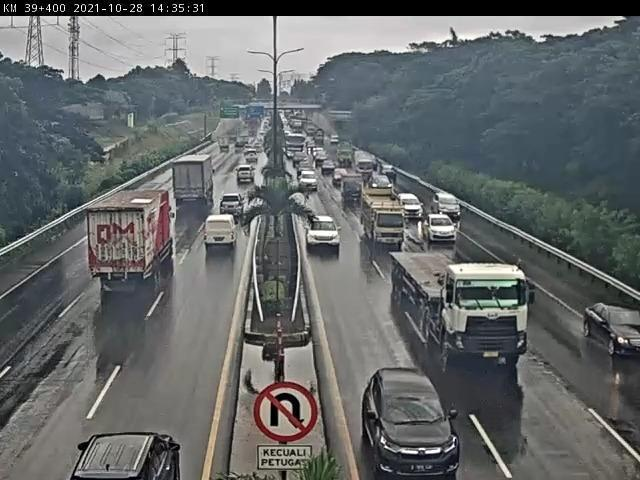car: (362, 369, 460, 478), (76, 435, 183, 480), (564, 289, 634, 345), (203, 218, 237, 253), (308, 218, 339, 249), (427, 215, 456, 243), (432, 194, 458, 221), (341, 177, 365, 201), (219, 195, 245, 215), (401, 195, 421, 220), (236, 166, 255, 184), (301, 168, 318, 187), (381, 164, 394, 179), (371, 175, 385, 188), (292, 152, 307, 164), (246, 151, 258, 164), (320, 159, 332, 171), (336, 165, 347, 178), (315, 150, 327, 161)
truck: (393, 253, 530, 361), (73, 192, 170, 299), (358, 188, 401, 243), (174, 159, 214, 204), (357, 154, 378, 178), (289, 132, 306, 155), (340, 141, 355, 165), (219, 138, 228, 152)
